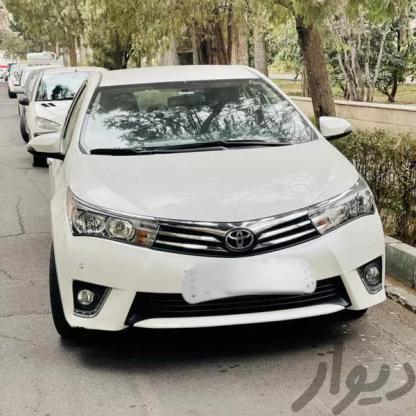Car: (51, 56, 390, 342), (24, 66, 126, 149)
